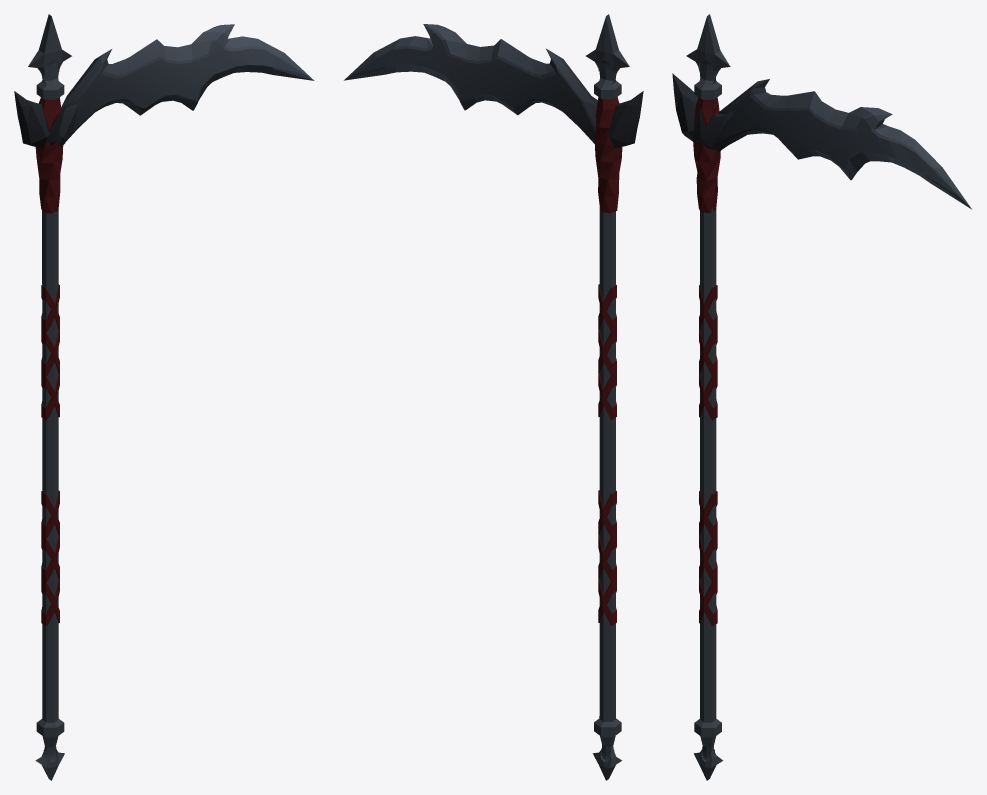
The model's file is Scythe_1.fbx.
3 views of the same model, side by side, from view 1: azimuth 30°, elevation 25°; view 2: azimuth 150°, elevation 25°; view 3: azimuth 330°, elevation 25° (orthographic).
Visible parts, largest first — view 1: Scythe_1; view 2: Scythe_1; view 3: Scythe_1.
Part boxes in pixels (x1,y1,x2,y2): Scythe_1: [14, 14, 314, 780]; Scythe_1: [344, 14, 643, 780]; Scythe_1: [672, 14, 971, 780].
Size of the model in its own units: 64.71 by 157 by 7.62.
1 material, 1 textured.
